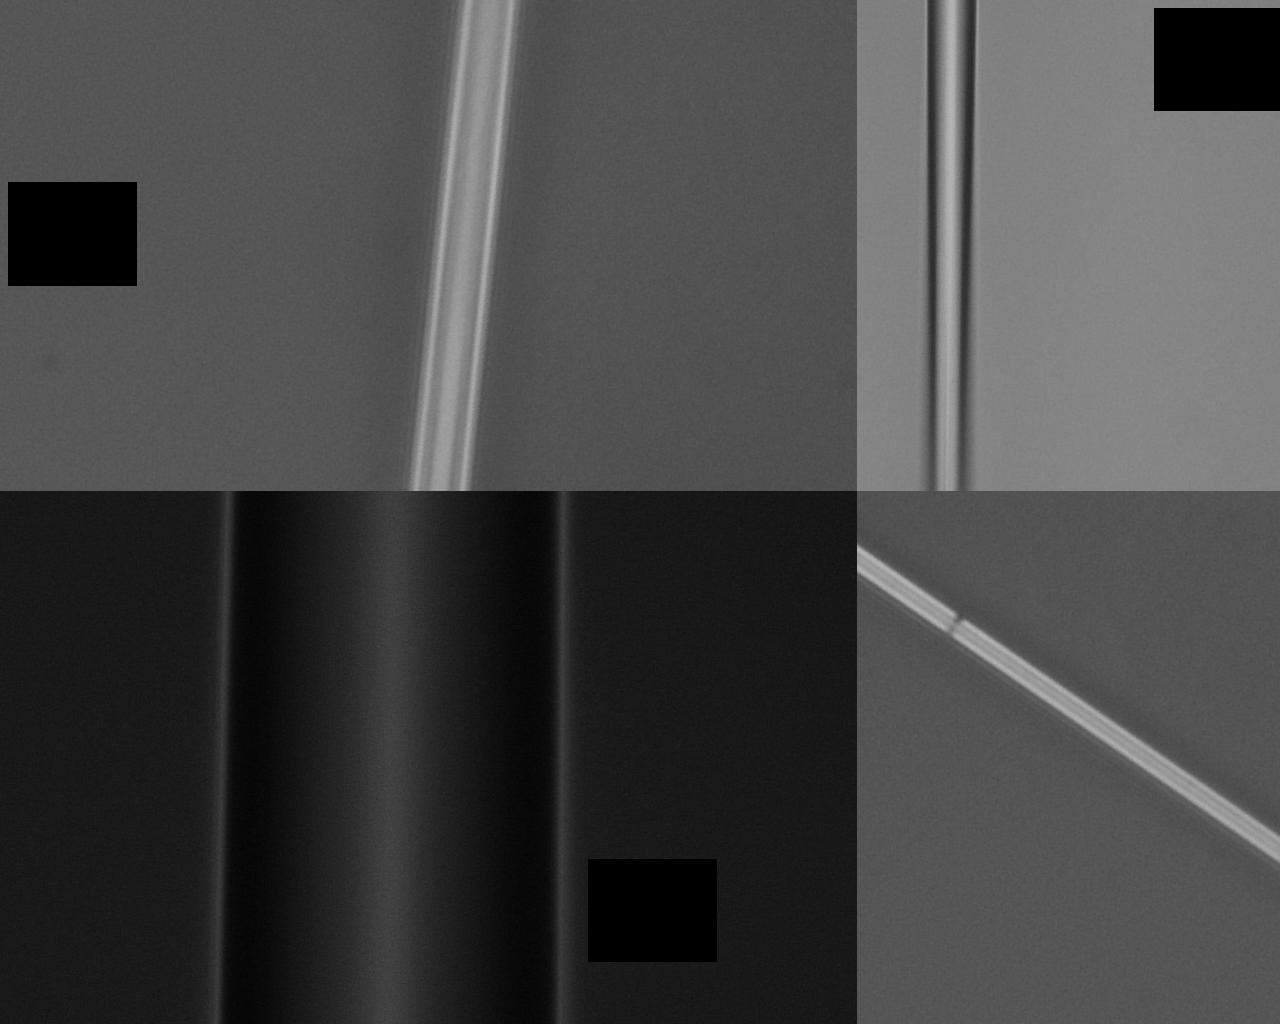fiber: (67, 75, 576, 375), (221, 450, 405, 1024), (576, 834, 1280, 895)
